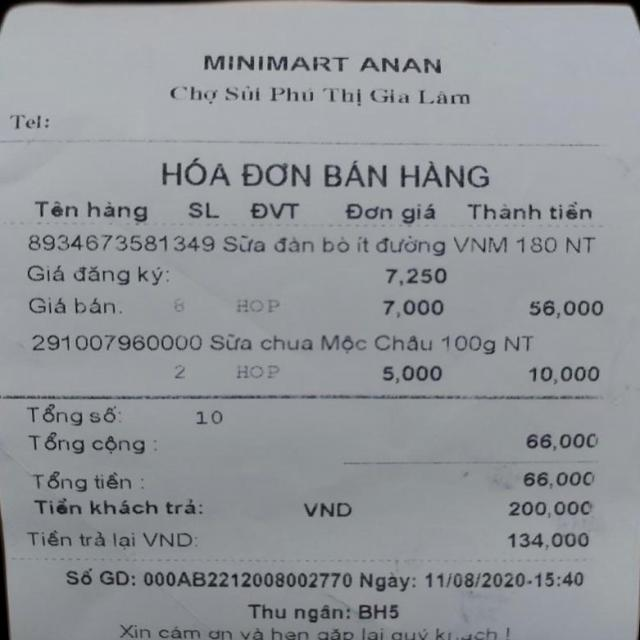Date: (414, 565, 526, 591)
Store_Name: (174, 48, 466, 78)
Total_Amount: (2, 423, 606, 463)
